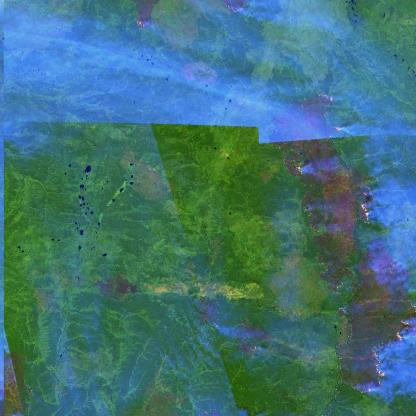fire: (331, 279, 416, 401), (277, 154, 316, 243), (317, 80, 340, 135), (358, 159, 375, 226), (132, 6, 149, 38)
